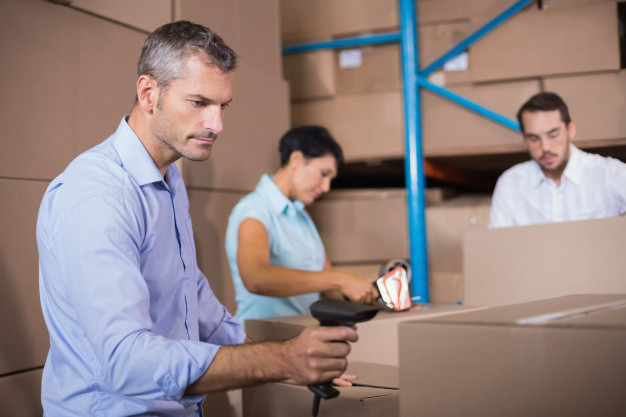noepi: (42, 19, 267, 417), (227, 118, 381, 322), (488, 88, 626, 234)
